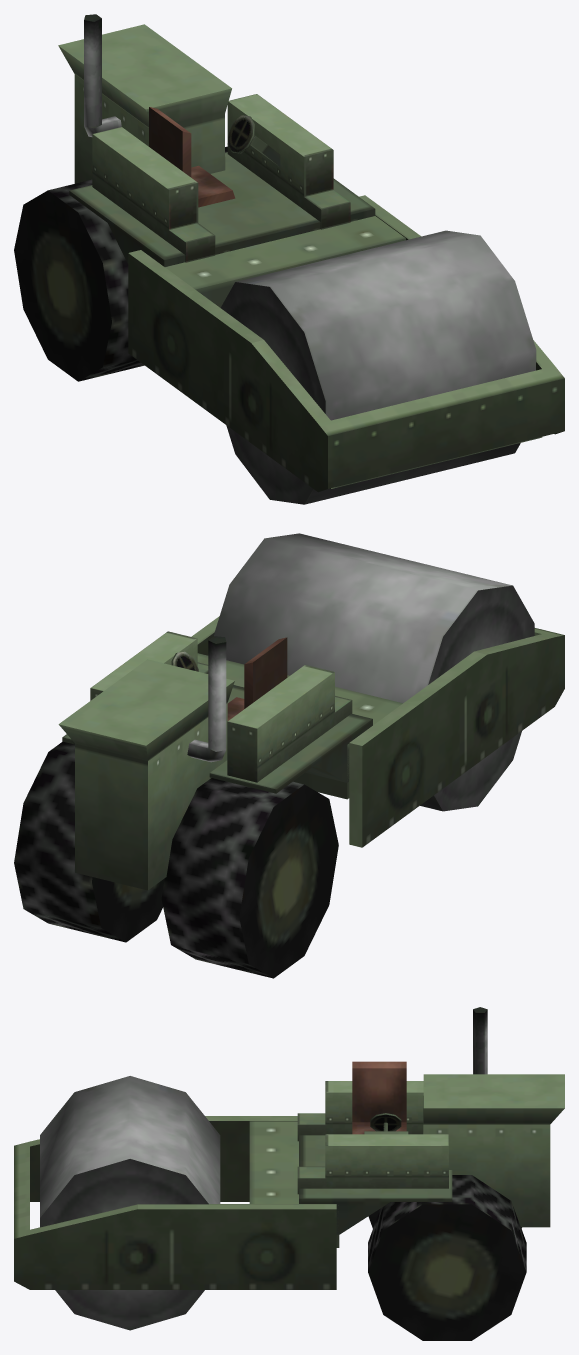
Rendered from Roller.DAE.
3 renders of one model, top to bottom at view 1: azimuth 30°, elevation 25°; view 2: azimuth 150°, elevation 25°; view 3: azimuth 270°, elevation 25°, orthographic. The views are drawn at different scales.
Parts seen in each view (by area): view 1: _1144_Roller; view 2: _1144_Roller; view 3: _1144_Roller.
Part boxes in pixels (<box>): _1144_Roller: <box>14,14,564,504</box>; _1144_Roller: <box>14,533,564,978</box>; _1144_Roller: <box>14,1007,564,1340</box>.
Size of the model in its own units: 67.59 by 88.77 by 169.
1 material, 1 textured.
